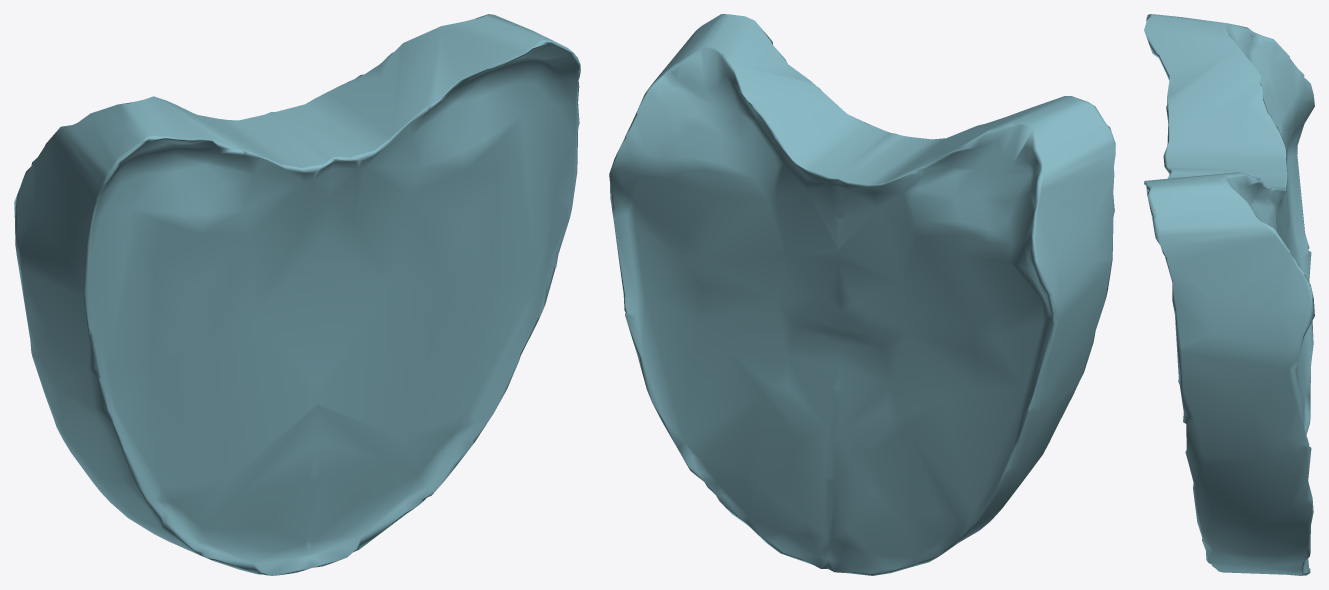
3 views of the same model, side by side, from view 1: azimuth 30°, elevation 25°; view 2: azimuth 150°, elevation 25°; view 3: azimuth 270°, elevation 25° (orthographic). The views are drawn at different scales.
Parts seen in each view (by area): view 1: 胸5—胸6椎间盘; view 2: 胸5—胸6椎间盘; view 3: 胸5—胸6椎间盘.
Part boxes in pixels (left/top/right/bottom): 胸5—胸6椎间盘: left=14, top=14, right=580, bottom=575; 胸5—胸6椎间盘: left=609, top=14, right=1115, bottom=575; 胸5—胸6椎间盘: left=1144, top=14, right=1314, bottom=575.
Size of the model in its own units: 0.0473 by 0.0464 by 0.0158.
